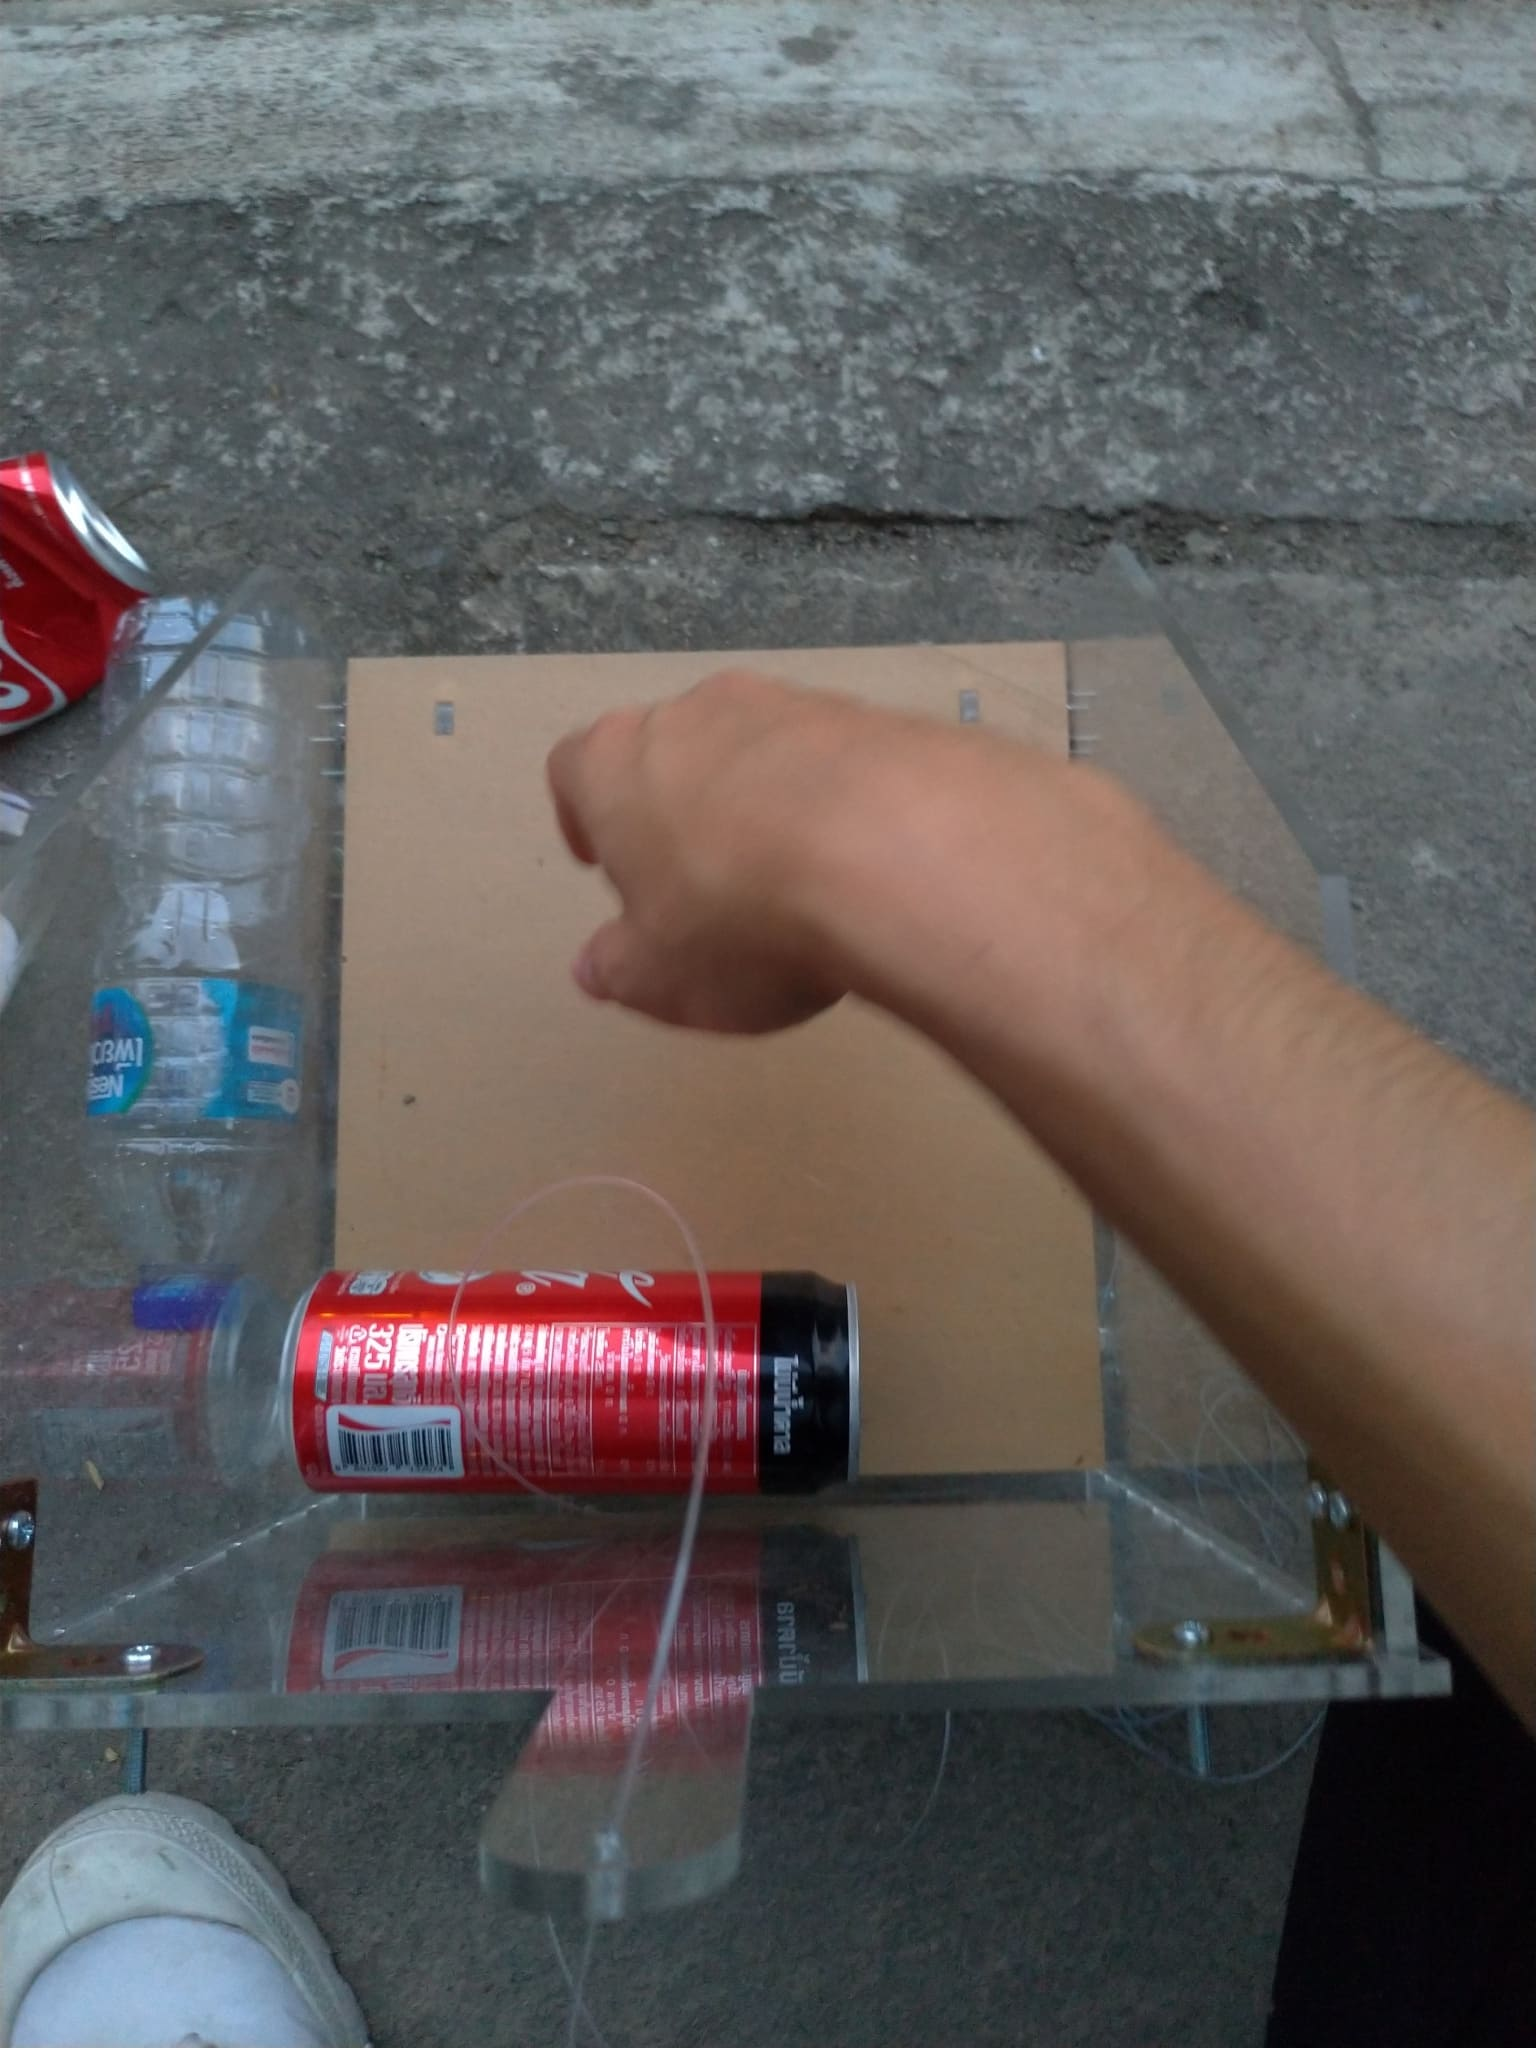AlCan: (282, 1274, 870, 1513), (2, 461, 160, 719)
PlasticBottle: (86, 600, 307, 1335)
